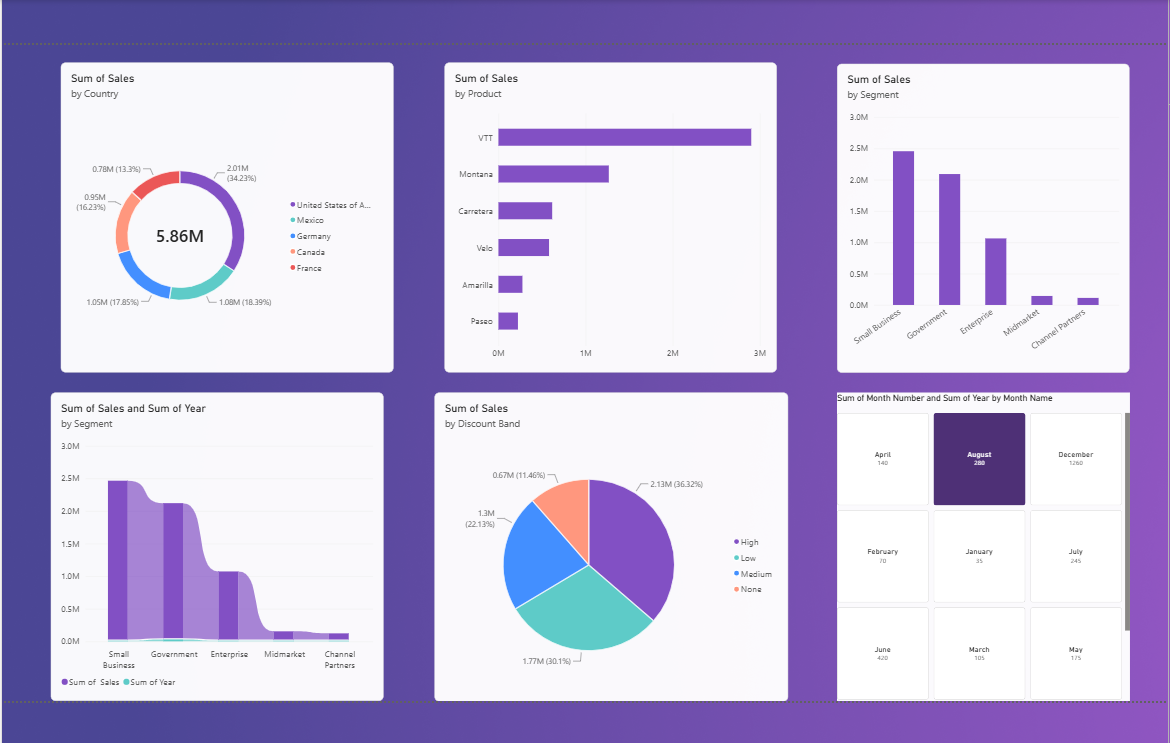

What the dashboard file says about the page in this screenshot:
{"tool":"powerbi","page":{"name":"Page 1","canvas":[1920,1080],"ordinal":0},"visuals":[{"type":"barChart","fields":{"Category":["financials.Product"],"Y":["Sum(financials. Sales)"]},"box":[728.6,28.8,547.5,510.5],"z":0},{"type":"pieChart","fields":{"Category":["financials.Discount Band"],"Y":["Sum(financials. Sales)"]},"box":[712.2,572.2,582.5,508.4],"z":1},{"type":"columnChart","fields":{"Category":["financials.Segment"],"Y":["Sum(financials. Sales)"]},"box":[1375,30.9,481.6,508.4],"z":2},{"type":"donutChart","fields":{"Category":["financials.Country"],"Y":["Sum(financials. Sales)"]},"box":[96.7,28.8,548,510],"z":3},{"type":"ribbonChart","fields":{"Category":["financials.Segment"],"Y":["Sum(financials. Sales)","Sum(financials.Year)"]},"box":[80,572,548,508],"z":4},{"type":"advancedSlicerVisual","fields":{"Label":["Sum(financials.Month Number)"],"Values":["financials.Month Name"]},"box":[1375,572,482,508],"z":5}]}

Visuals, with their boxes in screenshot pixels (x1, y1, x2, y2):
barChart - financials.Product x Sum(financials. Sales): left=444, top=63, right=773, bottom=370
pieChart - financials.Discount Band x Sum(financials. Sales): left=434, top=390, right=784, bottom=695
columnChart - financials.Segment x Sum(financials. Sales): left=832, top=64, right=1122, bottom=370
donutChart - financials.Country x Sum(financials. Sales): left=64, top=63, right=394, bottom=369
ribbonChart - financials.Segment x Sum(financials. Sales): left=54, top=389, right=383, bottom=695
advancedSlicerVisual - Sum(financials.Month Number) x financials.Month Name: left=832, top=389, right=1122, bottom=695
